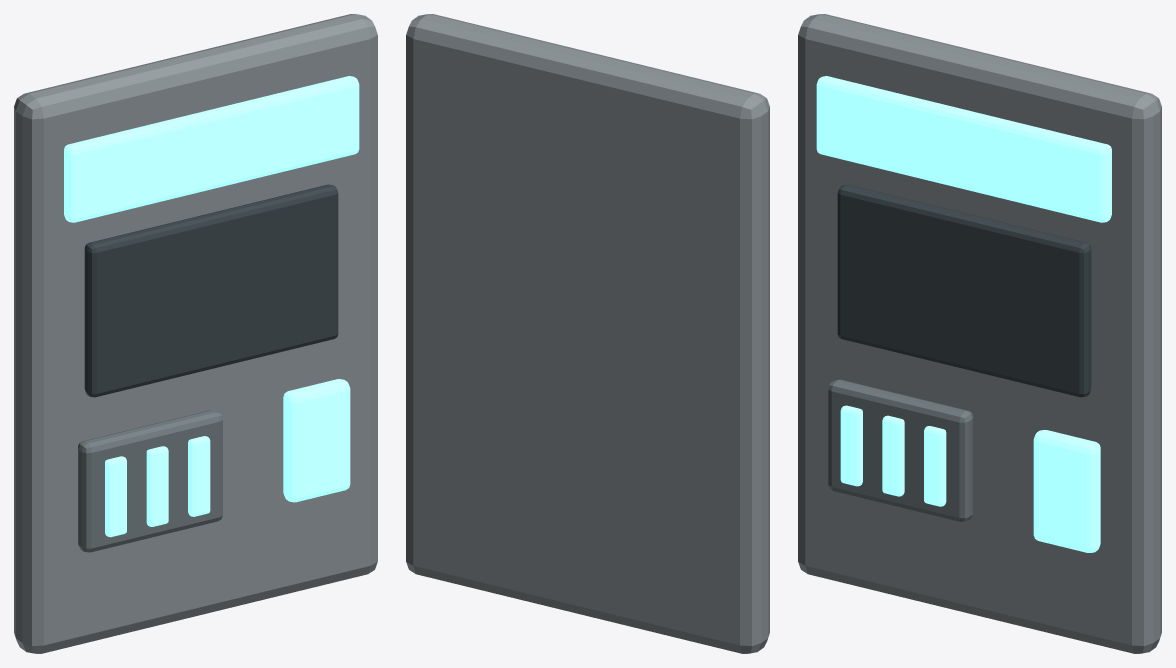
Rendered from Keycard_A.fbx.
3 views of the same model, side by side, from view 1: azimuth 30°, elevation 25°; view 2: azimuth 150°, elevation 25°; view 3: azimuth 330°, elevation 25° (orthographic).
Parts seen in each view (by area): view 1: Keycard Body, Keycard Identity Plate, Keycard Top Band, Keycard Chip, Keycard Clearance Light, Keycard Chip Contact.001, Keycard Chip Contact.002, Keycard Chip Contact; view 2: Keycard Body; view 3: Keycard Body, Keycard Identity Plate, Keycard Top Band, Keycard Chip, Keycard Clearance Light, Keycard Chip Contact.001, Keycard Chip Contact, Keycard Chip Contact.002.
Boxes of the visible parts, x1,y1,x2,y2 form: Keycard Body: (14, 14, 377, 653); Keycard Identity Plate: (84, 184, 338, 397); Keycard Top Band: (64, 76, 359, 222); Keycard Chip: (78, 410, 222, 552); Keycard Clearance Light: (283, 379, 350, 502); Keycard Chip Contact.001: (146, 446, 168, 526); Keycard Chip Contact.002: (188, 436, 210, 516); Keycard Chip Contact: (105, 456, 126, 537); Keycard Body: (406, 14, 769, 653); Keycard Body: (798, 14, 1161, 653); Keycard Identity Plate: (837, 184, 1091, 397); Keycard Top Band: (816, 76, 1111, 222); Keycard Chip: (828, 379, 973, 521); Keycard Clearance Light: (1033, 430, 1100, 552); Keycard Chip Contact.001: (882, 415, 904, 496); Keycard Chip Contact: (840, 405, 862, 486); Keycard Chip Contact.002: (924, 426, 946, 506).
Bounding box in the file's own units: 0.68 × 1.02 × 0.1265.
